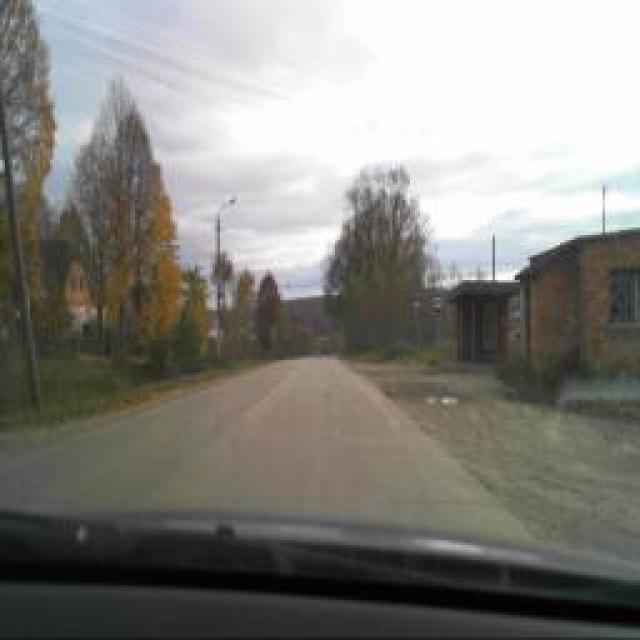sign: (411, 294, 421, 311)
